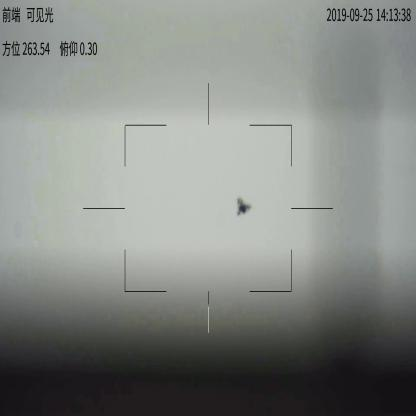uav: (236, 194, 255, 220)
